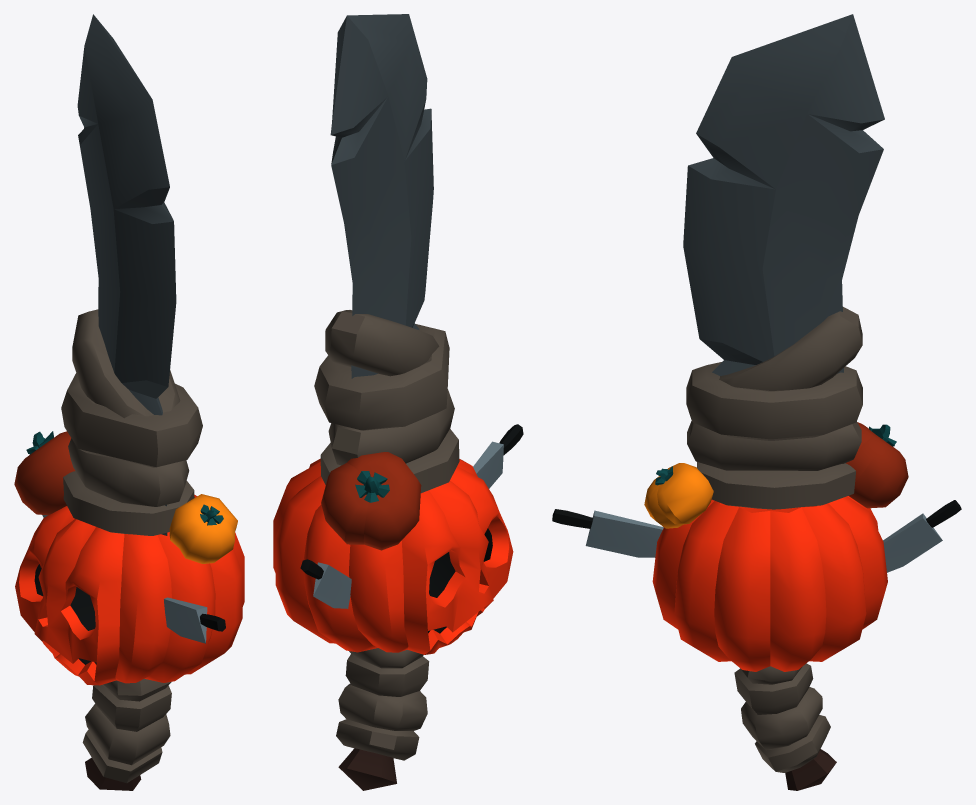
Rendered from pumpkin_sword.obj.
The picture shows the model from 3 angles, left to right: view 1: azimuth 30°, elevation 25°; view 2: azimuth 150°, elevation 25°; view 3: azimuth 270°, elevation 25°; orthographic projection. The views are drawn at different scales.
Visible parts, largest first — view 1: pumpkin_sword_Sphere.035; view 2: pumpkin_sword_Sphere.035; view 3: pumpkin_sword_Sphere.035.
Boxes of the visible parts, x1,y1,x2,y2 form: pumpkin_sword_Sphere.035: [14, 14, 244, 790]; pumpkin_sword_Sphere.035: [273, 14, 523, 790]; pumpkin_sword_Sphere.035: [552, 14, 961, 790].
Size of the model in its own units: 0.5373 by 2.05 by 0.987.
